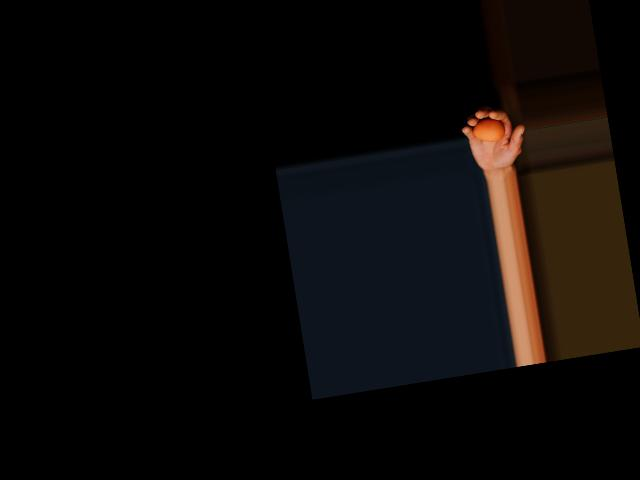egg: (470, 117, 506, 144)
